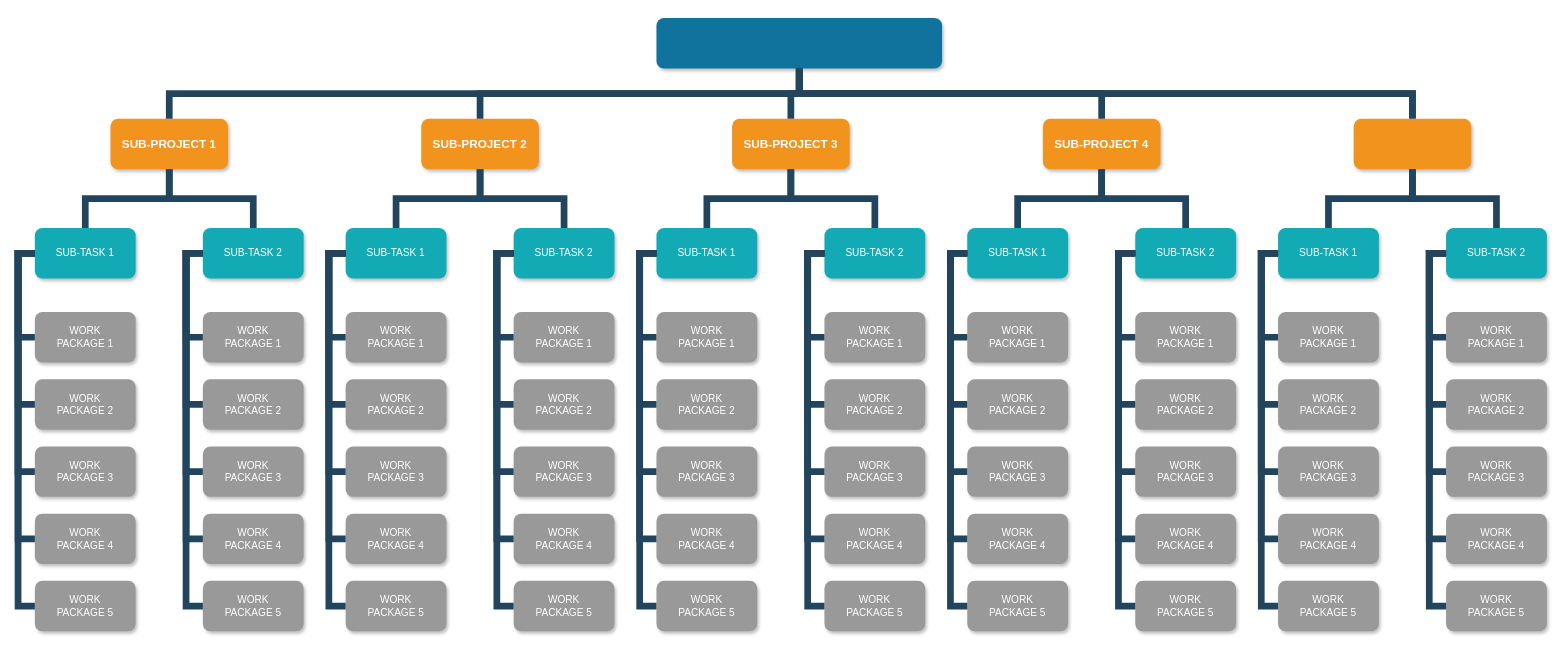
Some shapes in this 1566 by 651 pixel diagram are drawn without their labels. The shapes that lost their labels are listed below. From the top down, each one's centre as x and y in pixels, then its label:
At (800,44): "MAIN PROJECT".
At (1413,145): "SUB-PROJECT 5".
